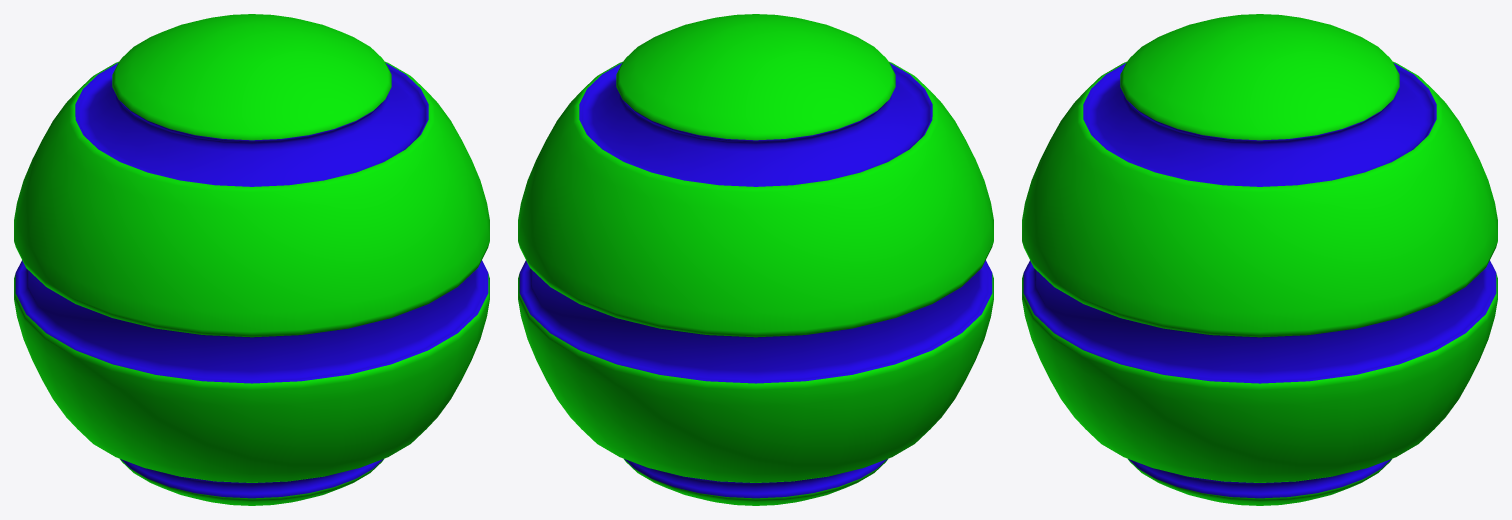
The model's file is ball 2.fbx.
3 renders of one model, left to right at view 1: azimuth 30°, elevation 25°; view 2: azimuth 150°, elevation 25°; view 3: azimuth 270°, elevation 25°, orthographic.
Parts seen in each view (by area): view 1: pSphere1; view 2: pSphere1; view 3: pSphere1.
Boxes of the visible parts, left/top/right/bottom form: pSphere1: left=14, top=14, right=489, bottom=505; pSphere1: left=518, top=14, right=993, bottom=505; pSphere1: left=1022, top=14, right=1497, bottom=505.
Bounding box in the file's own units: 1.93 × 2 × 1.92.
